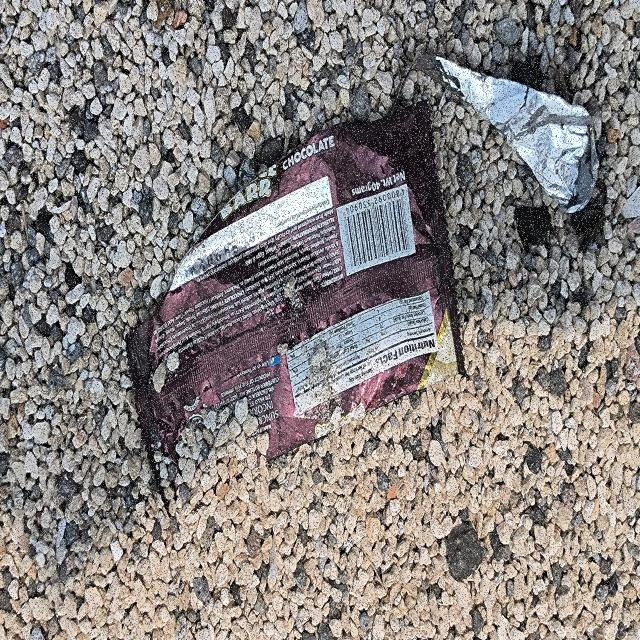plastic_waste: (127, 99, 469, 519)
